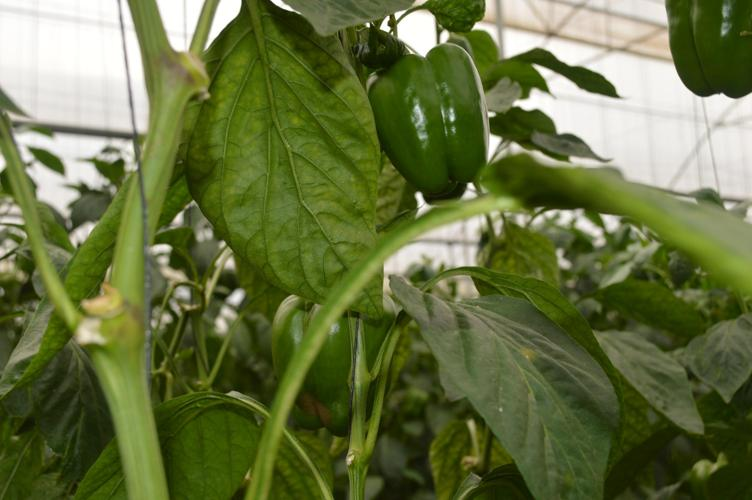BellPepper: (369, 43, 500, 208), (261, 277, 384, 439), (652, 3, 752, 106)
